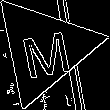M_N: (15, 19, 73, 78)
